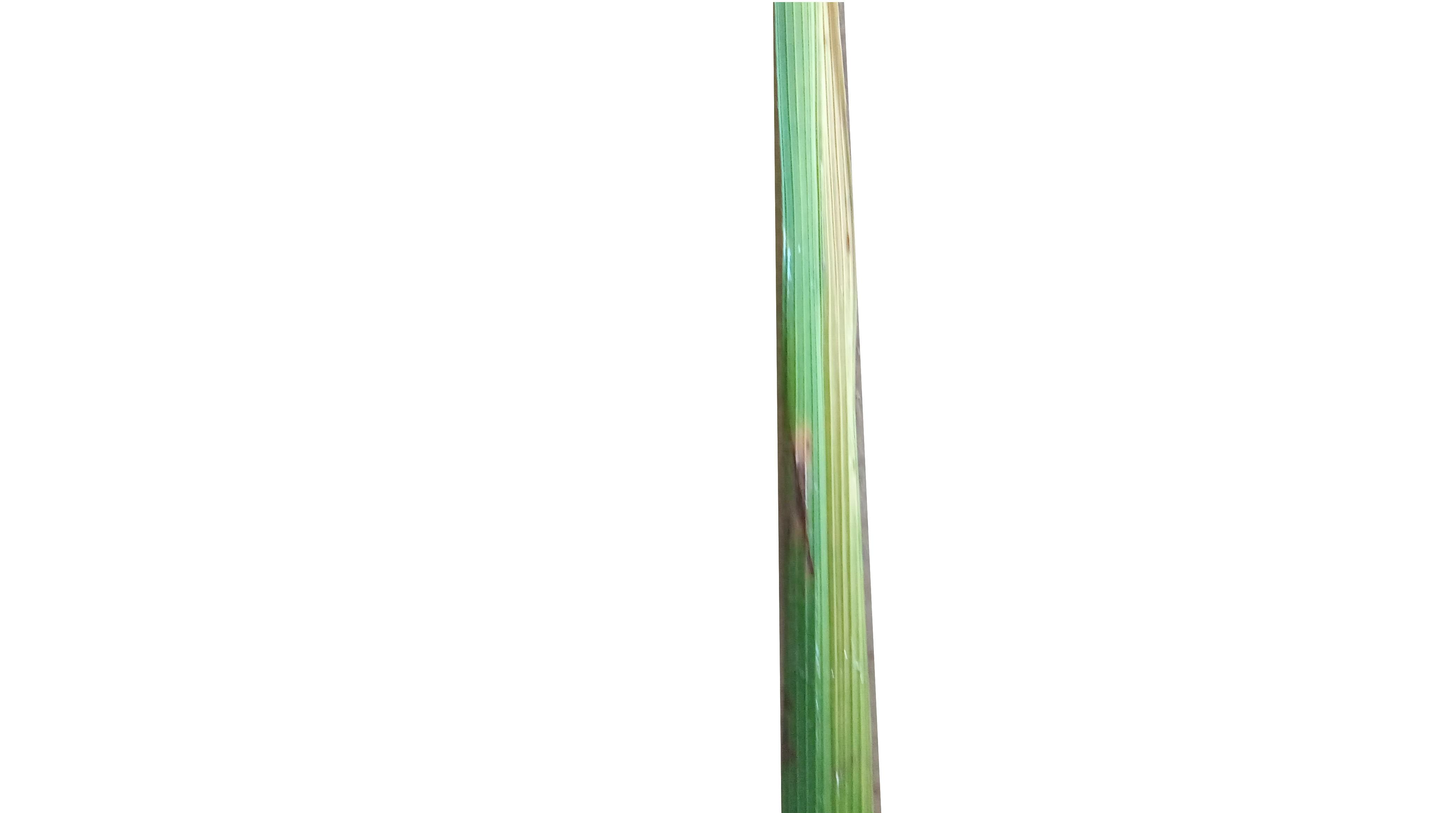Rice blast: (780, 419, 831, 589)
